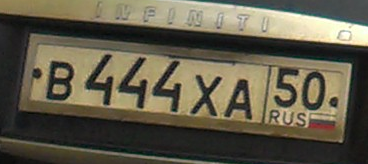character: (116, 52, 151, 110), (151, 55, 183, 114), (85, 53, 116, 106), (189, 74, 223, 117), (44, 60, 76, 102), (226, 77, 253, 122), (276, 67, 297, 110), (302, 69, 324, 110)
